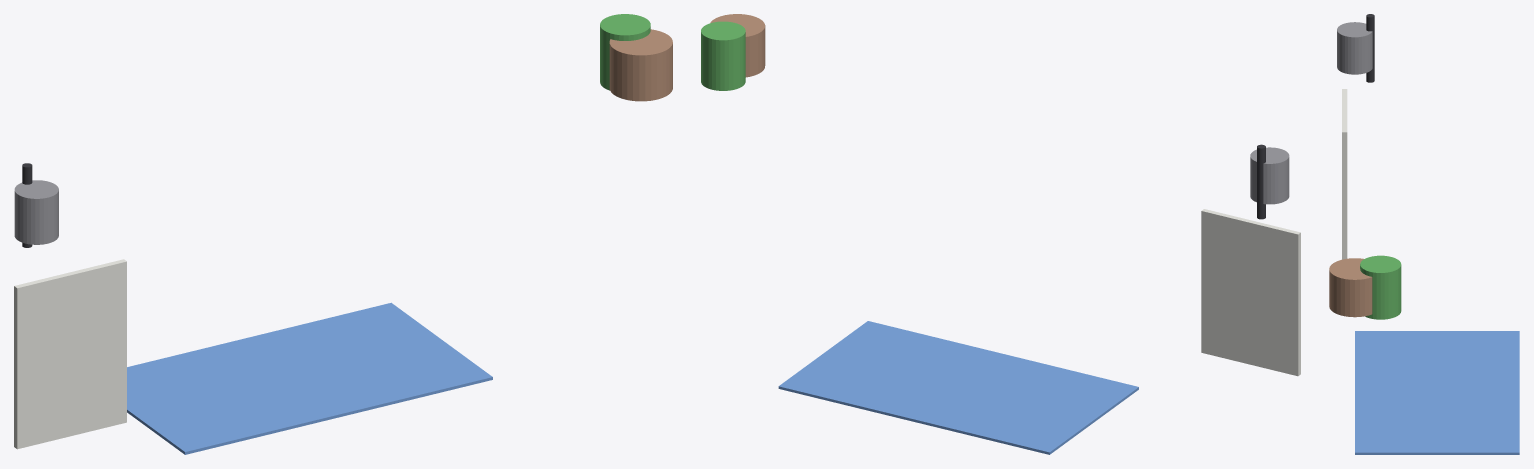
The model's file is SK_Desk_01_Clean.fbx.
The picture shows the model from 3 angles, left to right: view 1: azimuth 30°, elevation 25°; view 2: azimuth 150°, elevation 25°; view 3: azimuth 270°, elevation 25°; orthographic projection. The views are drawn at different scales.
Parts seen in each view (by area): view 1: Clean_ScreenOn, Clean_Notebook, Clean_PlantPot, Clean_PenHolder, Clean_PlantLeaves; view 2: Clean_ScreenOn, Clean_Notebook, Clean_PlantLeaves, Clean_PenHolder, Clean_PlantPot, Clean_Pen; view 3: Clean_ScreenOn, Clean_PlantPot, Clean_PlantLeaves, Clean_PenHolder, Clean_Notebook, Clean_Pen.
Boxes of the visible parts, x1,y1,x2,y2 form: Clean_ScreenOn: (127, 302, 492, 454); Clean_Notebook: (14, 259, 126, 449); Clean_PlantPot: (609, 29, 672, 101); Clean_PenHolder: (14, 180, 58, 244); Clean_PlantLeaves: (600, 14, 650, 90); Clean_ScreenOn: (778, 321, 1138, 454); Clean_Notebook: (1201, 209, 1300, 376); Clean_PlantLeaves: (701, 21, 745, 90); Clean_PenHolder: (1250, 147, 1289, 204); Clean_PlantPot: (710, 14, 765, 77); Clean_Pen: (1257, 144, 1265, 219); Clean_ScreenOn: (1355, 331, 1519, 454); Clean_PlantPot: (1329, 258, 1372, 317); Clean_PlantLeaves: (1360, 255, 1401, 319); Clean_PenHolder: (1337, 22, 1372, 74); Clean_Notebook: (1342, 89, 1347, 259); Clean_Pen: (1366, 14, 1374, 82).
Size of the model in its own units: 120 by 55.45 by 37.
